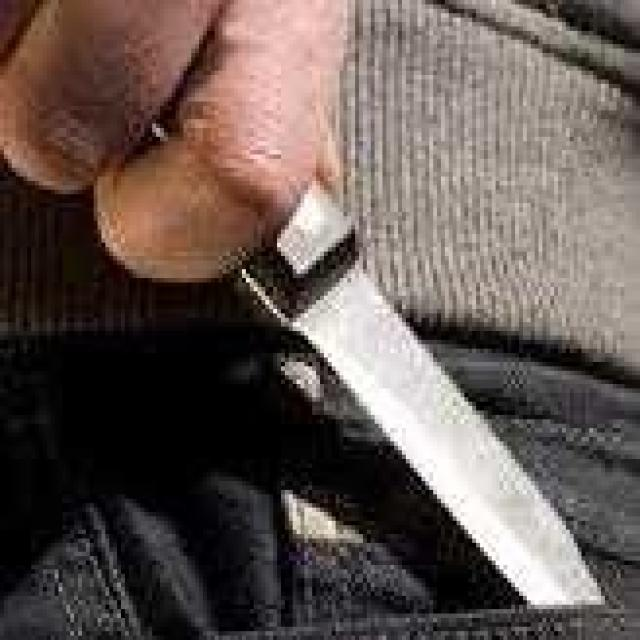Knife: (98, 71, 640, 640)
